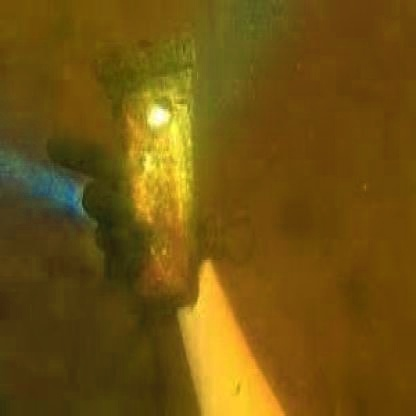cellphone: (122, 79, 194, 305)
